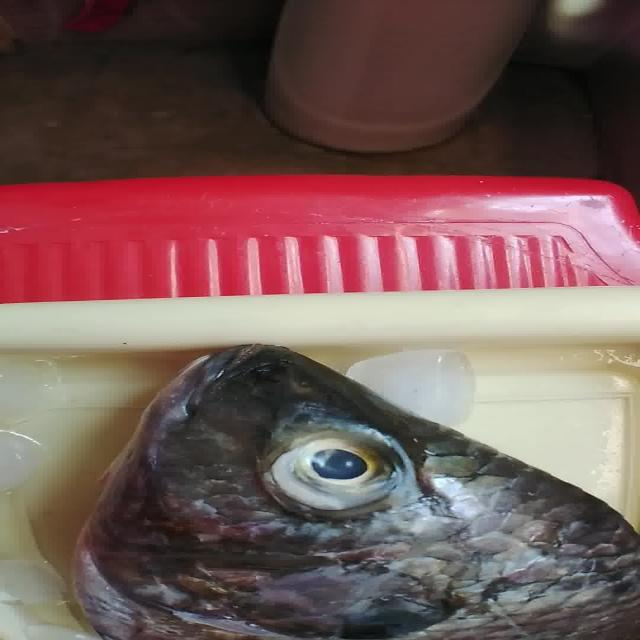Fresh: (229, 407, 460, 518)
